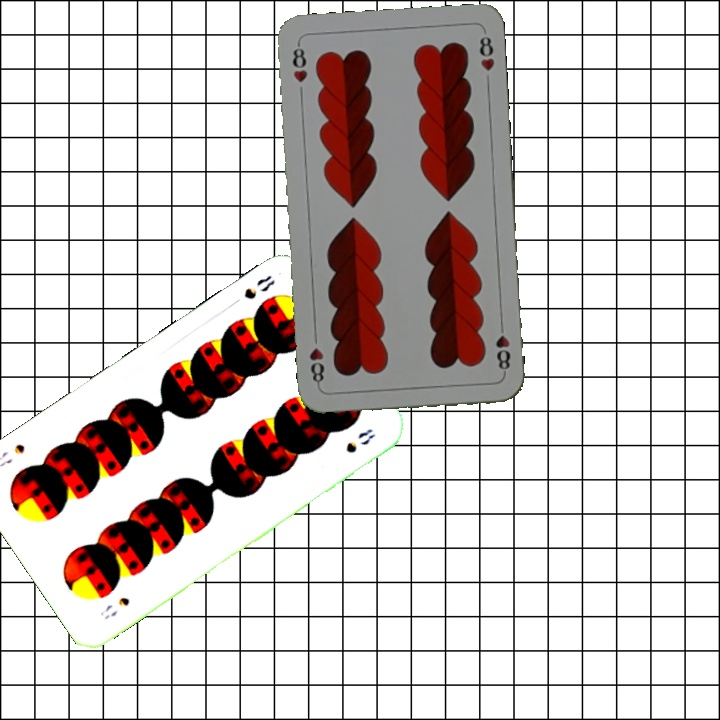H8: (492, 318, 514, 377), (288, 39, 310, 85)
S8: (240, 271, 278, 303), (96, 592, 133, 622)
